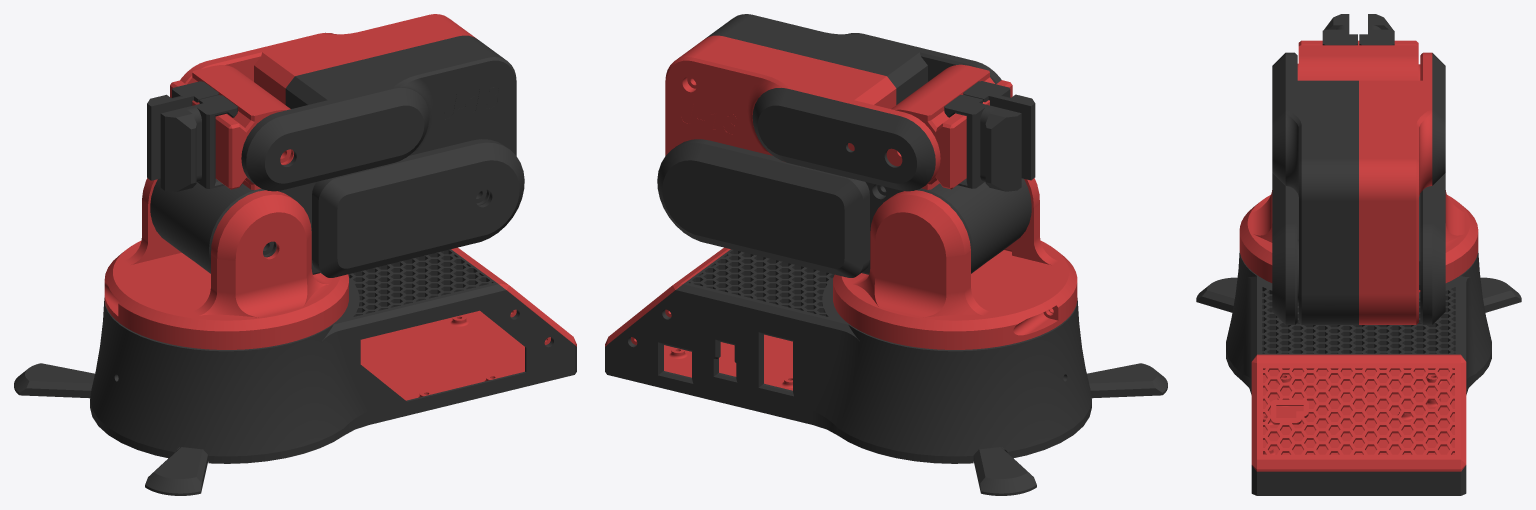
The model's file is Compact Robot Arm FUSION FINAL v1.fbx.
3 renders of one model, left to right at view 1: azimuth 30°, elevation 25°; view 2: azimuth 150°, elevation 25°; view 3: azimuth 270°, elevation 25°, orthographic. The views are drawn at different scales.
Parts seen in each view (by area): view 1: MB1, F1, M1, B1, MB2, F2, G3, B2, G1, S12, Body66, G4 (+3 smaller); view 2: MB1, M2, B2, F2, F2C, F1, G4, B1, G1, MB2, Body66, G3 (+4 smaller); view 3: MB4, MB1, F1, F2, MB2, G1, M2, M1, B2, B1, F2C, Body66 (+3 smaller).
Part boxes in pixels (bbox=[...]): MB1: bbox=[90, 249, 576, 463]; F1: bbox=[241, 35, 516, 205]; M1: bbox=[179, 139, 524, 277]; B1: bbox=[121, 190, 348, 349]; MB2: bbox=[360, 310, 524, 400]; F2: bbox=[180, 14, 476, 104]; G3: bbox=[160, 95, 237, 191]; B2: bbox=[104, 178, 210, 323]; G1: bbox=[174, 65, 293, 190]; S12: bbox=[145, 447, 208, 495]; Body66: bbox=[14, 363, 94, 398]; G4: bbox=[147, 81, 218, 180]; MB1: bbox=[605, 249, 1091, 463]; M2: bbox=[657, 139, 1002, 277]; B2: bbox=[833, 190, 1060, 349]; F2: bbox=[665, 35, 940, 183]; F2C: bbox=[752, 88, 935, 191]; F1: bbox=[705, 14, 1001, 104]; G4: bbox=[944, 94, 1021, 191]; B1: bbox=[971, 178, 1077, 323]; G1: bbox=[886, 64, 1008, 189]; MB2: bbox=[664, 334, 792, 390]; Body66: bbox=[973, 447, 1036, 495]; G3: bbox=[963, 81, 1035, 180]; MB4: bbox=[1251, 354, 1466, 471]; MB1: bbox=[1226, 251, 1491, 495]; F1: bbox=[1272, 52, 1358, 324]; F2: bbox=[1359, 52, 1432, 324]; MB2: bbox=[1263, 370, 1454, 454]; G1: bbox=[1297, 41, 1420, 80]; M2: bbox=[1419, 173, 1445, 324]; M1: bbox=[1272, 173, 1298, 324]; B2: bbox=[1419, 190, 1478, 292]; B1: bbox=[1239, 190, 1272, 282]; F2C: bbox=[1432, 53, 1445, 185]; Body66: bbox=[1480, 277, 1521, 312].
Bounding box in the file's own units: 187 × 127 × 122.
